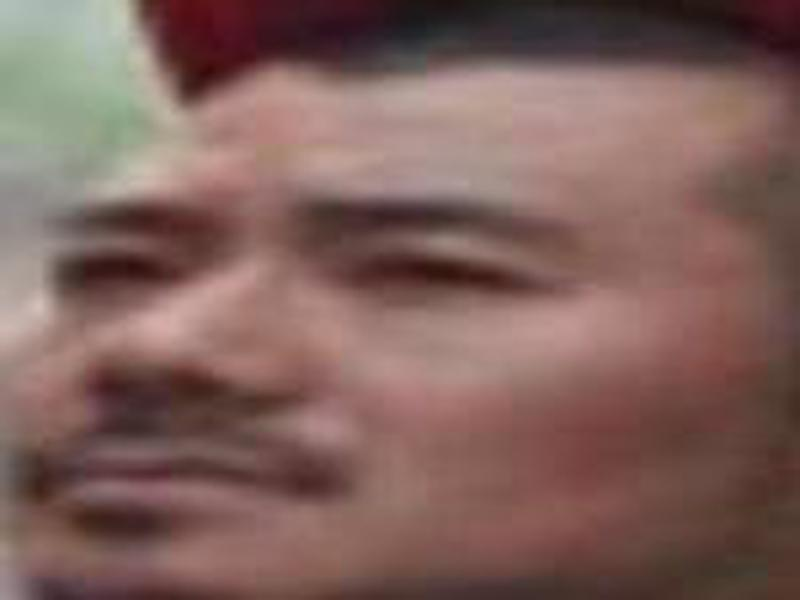without_mask: (10, 72, 776, 582)
